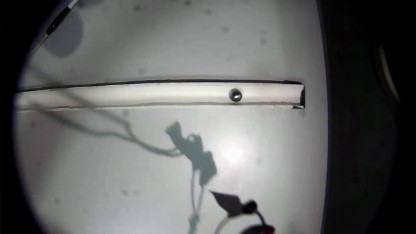gangzhu: (228, 87, 243, 103)
